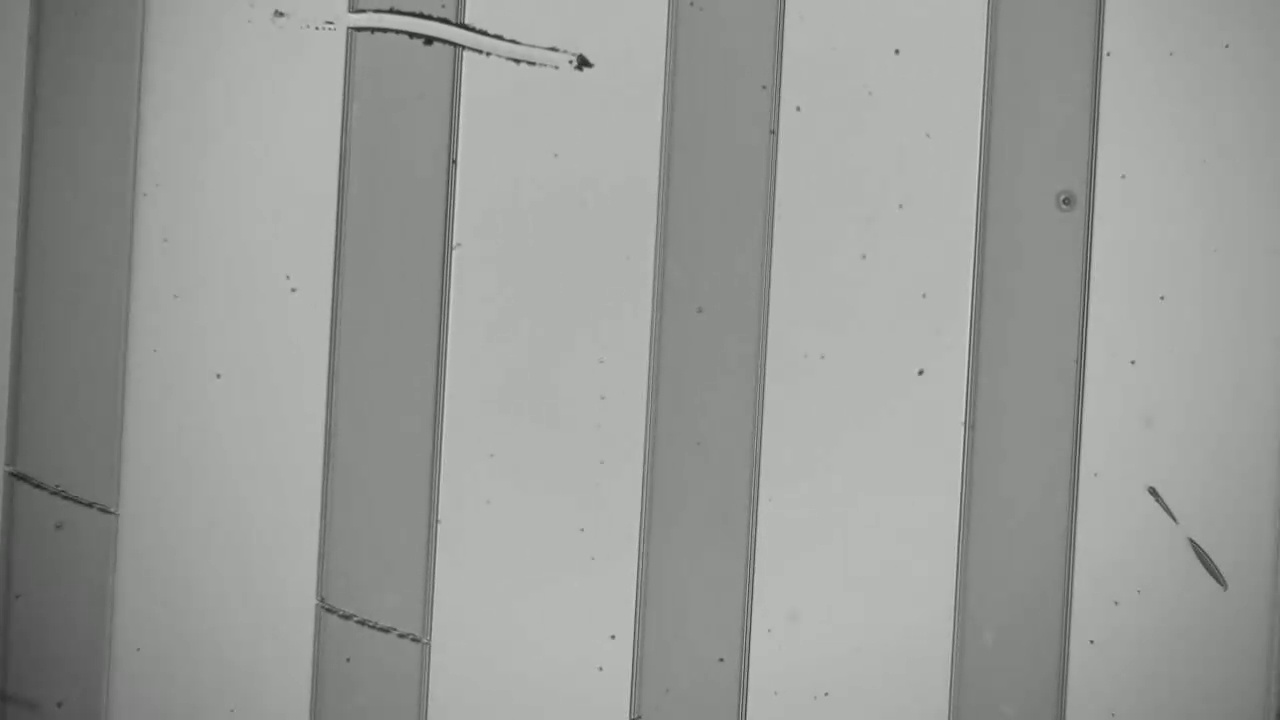Short_circuit: (319, 0, 485, 74)
scratch: (18, 467, 101, 522), (328, 599, 417, 650)
